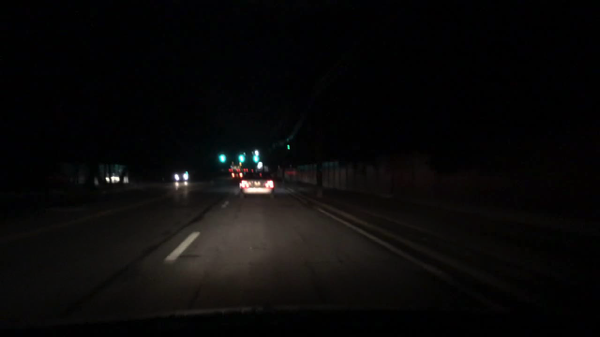car: (239, 173, 275, 198), (173, 169, 190, 182), (230, 171, 243, 181)
traffic light: (219, 153, 226, 163), (253, 154, 259, 163), (239, 154, 244, 162)
